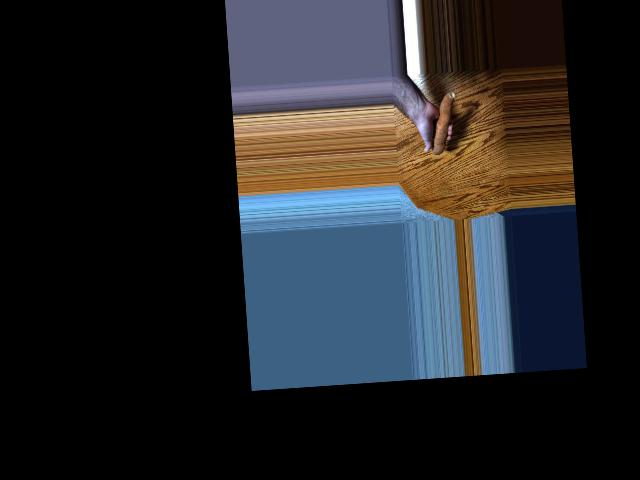sweet_potato: (428, 92, 449, 156)
